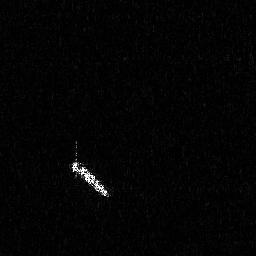ship: (67, 139, 111, 200)
